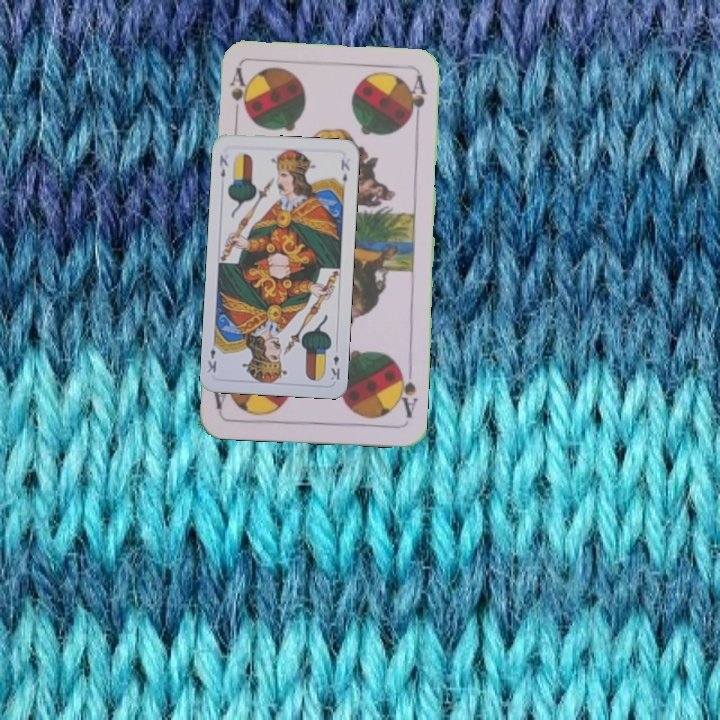EK: (327, 351, 342, 383), (215, 151, 231, 180)
SA: (393, 362, 420, 421), (226, 64, 249, 123)
